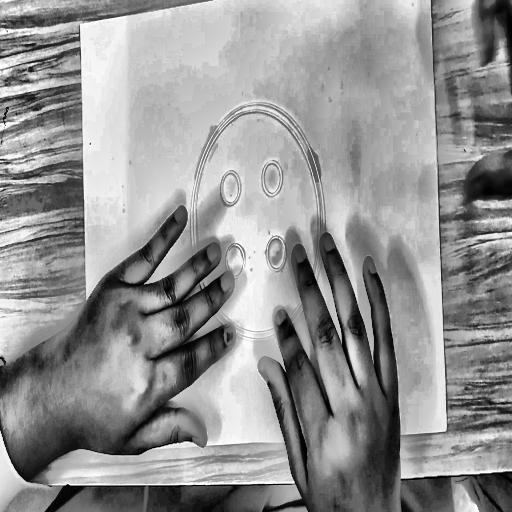bottom_left: (92, 433, 98, 446)
bottom_right: (443, 422, 451, 436)
button: (182, 87, 334, 366)
top_left: (77, 21, 83, 31)
